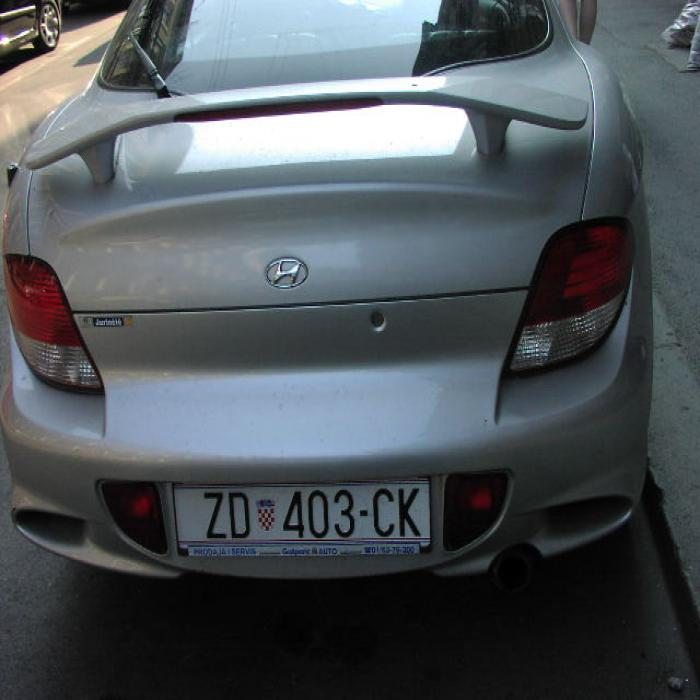number_plate: (173, 487, 425, 543)
